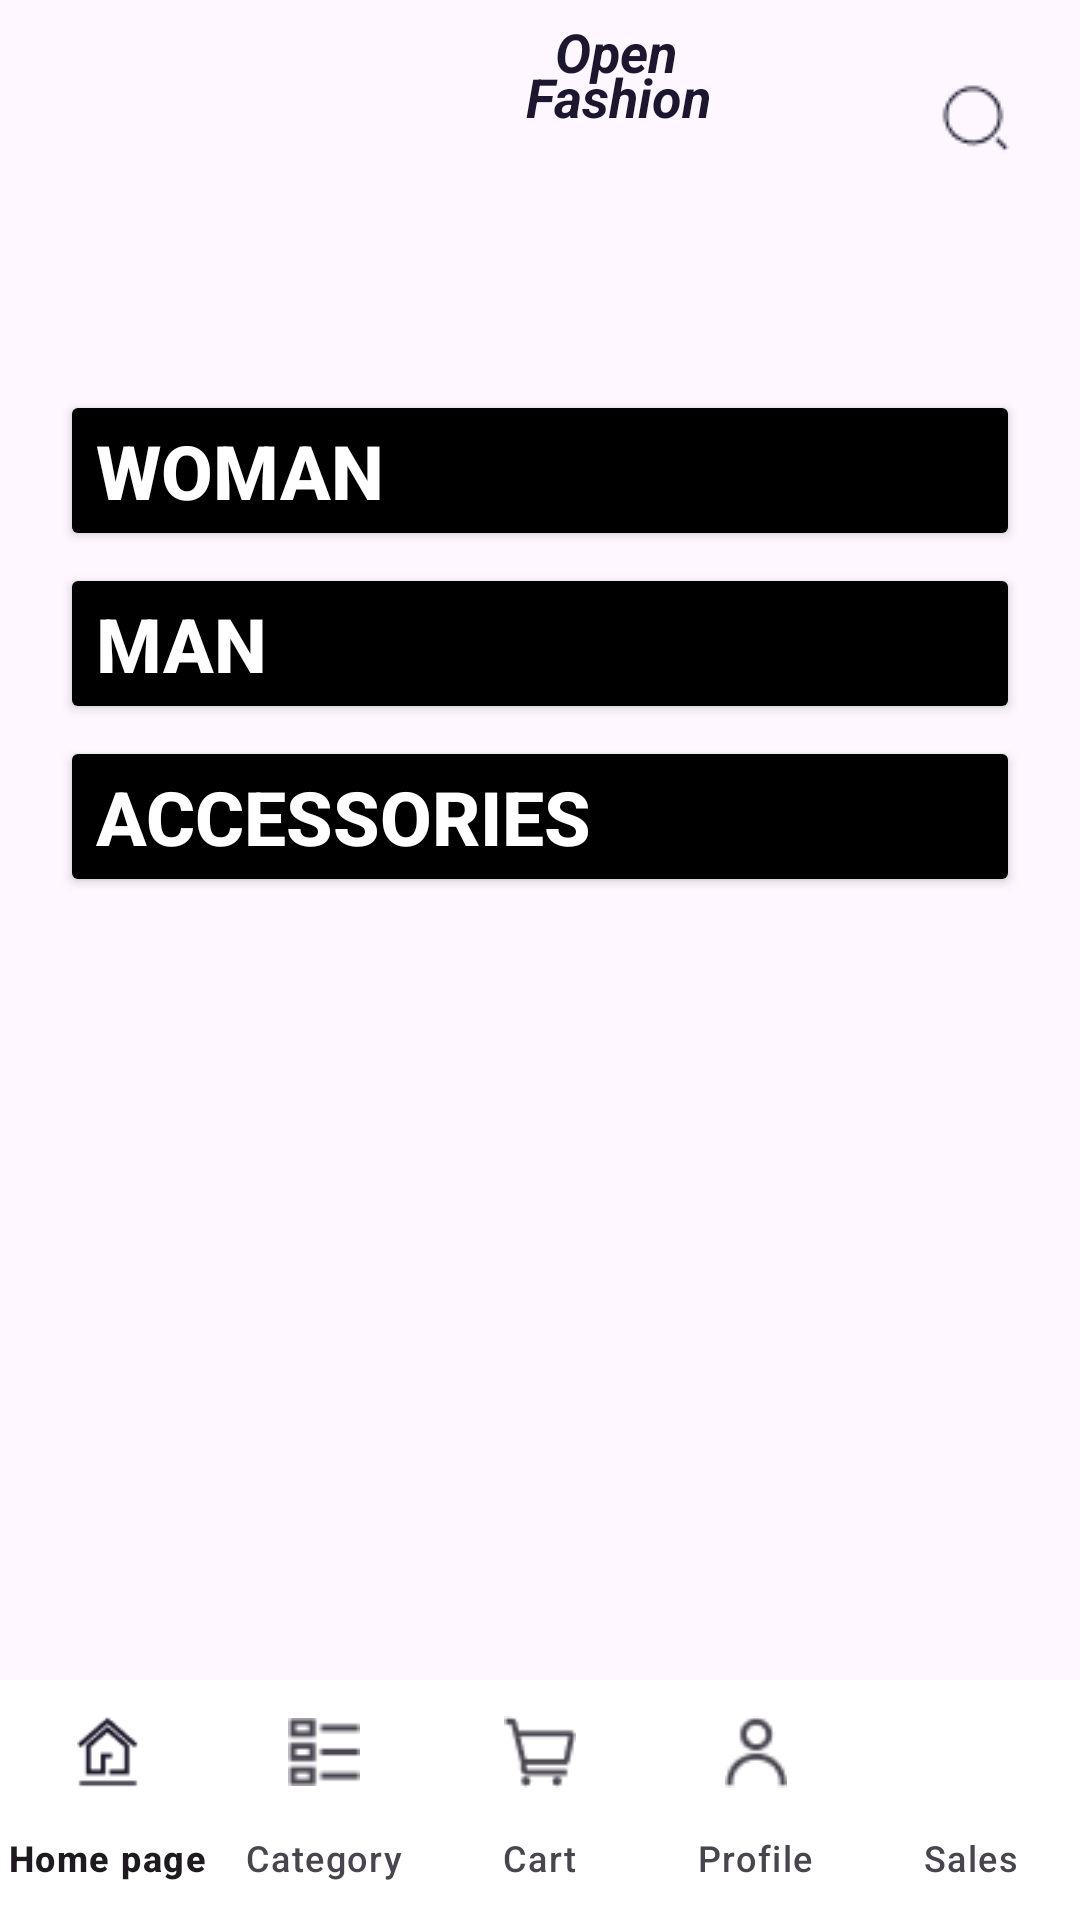

Icons on this 1080*1920 Android screen, each with the point to tap as (x,y):
search: (975,117)
